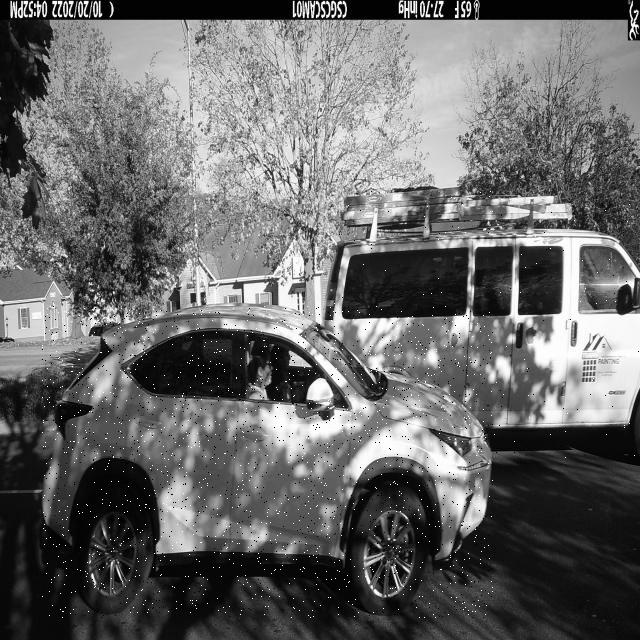SUV: (42, 306, 493, 618)
Van: (325, 188, 640, 462)
